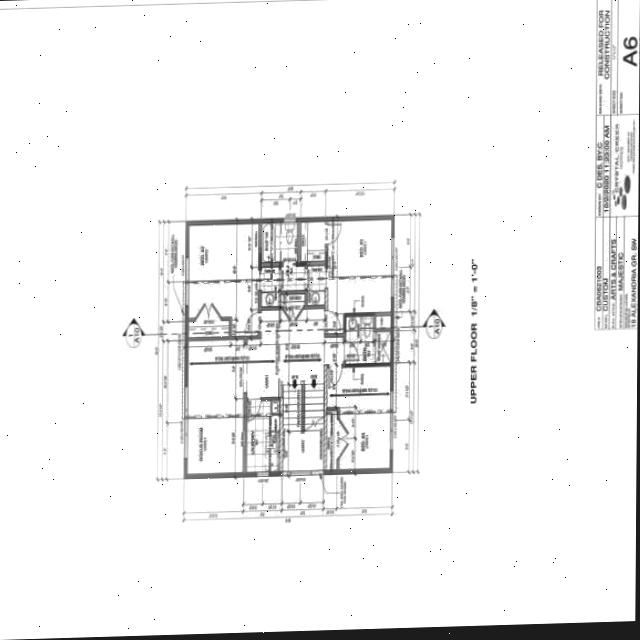room: (188, 222, 259, 336), (328, 218, 392, 333), (326, 364, 390, 469), (260, 264, 326, 306), (246, 399, 280, 472), (346, 315, 391, 363), (262, 221, 298, 262), (188, 320, 230, 337), (326, 409, 337, 469), (281, 293, 305, 305)
